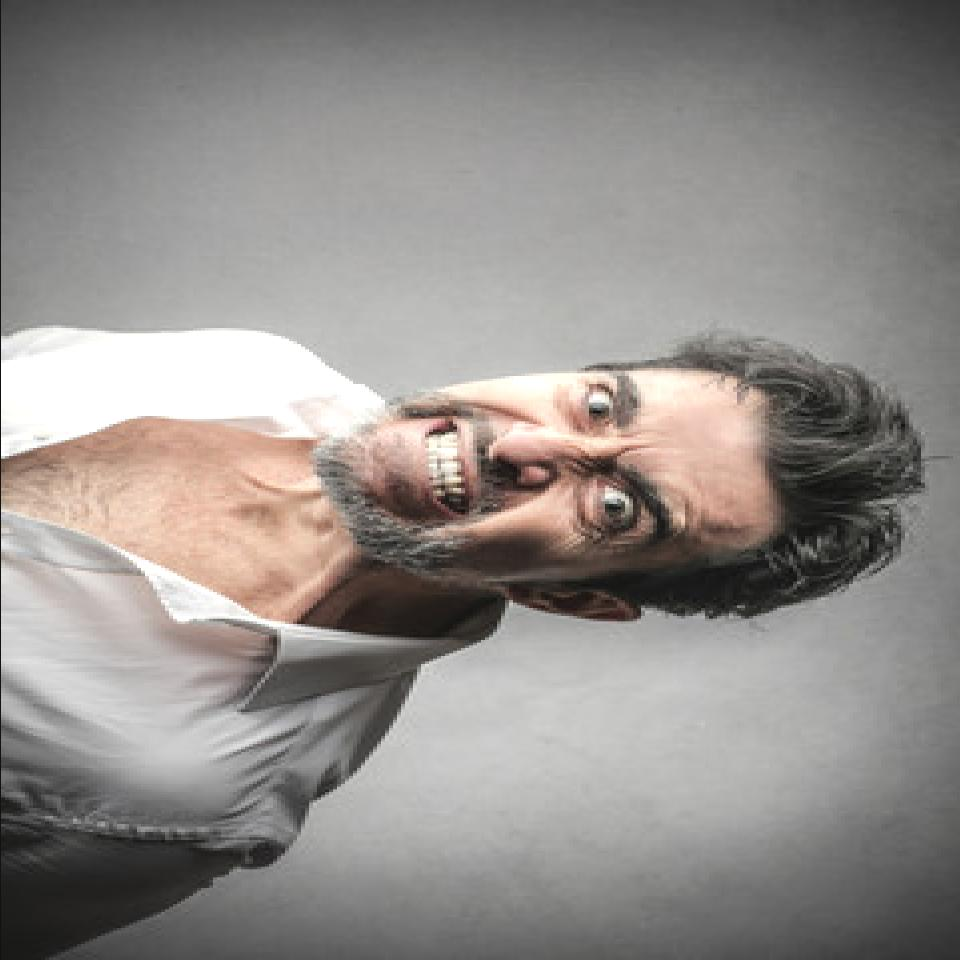Anger: (322, 364, 818, 620)
